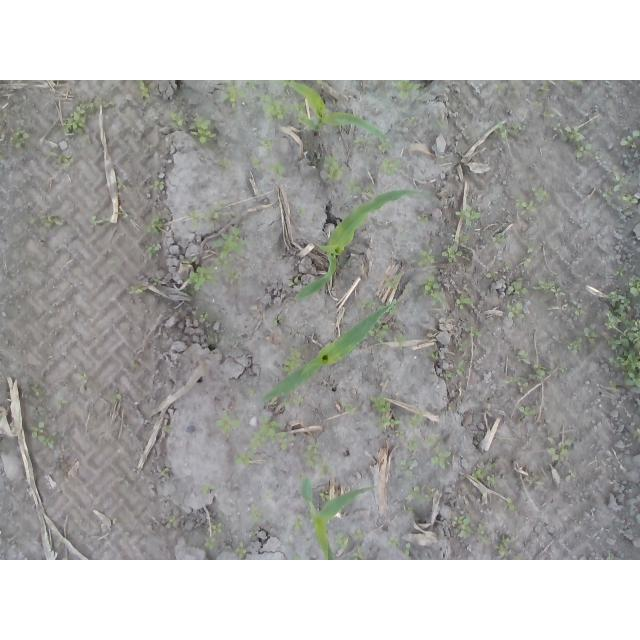Maize: (262, 300, 396, 404), (294, 190, 414, 300), (277, 80, 386, 142), (302, 477, 378, 560)
Weeds: (603, 267, 640, 396), (235, 416, 293, 464), (543, 112, 594, 161), (64, 97, 111, 136), (506, 350, 547, 394), (258, 92, 311, 125), (213, 225, 251, 269), (596, 153, 629, 200), (30, 407, 60, 450), (190, 111, 227, 145), (451, 516, 493, 545), (334, 526, 368, 560), (368, 394, 400, 430), (187, 200, 225, 230), (424, 431, 452, 471), (567, 321, 602, 352), (416, 274, 449, 305), (302, 442, 331, 476), (186, 265, 219, 294), (530, 273, 567, 298), (402, 485, 435, 513), (495, 534, 530, 560), (321, 152, 347, 184), (222, 80, 247, 112), (494, 111, 520, 141), (547, 439, 577, 465), (344, 177, 379, 199), (391, 81, 423, 104), (282, 347, 306, 377), (471, 462, 497, 488), (366, 318, 390, 344), (216, 411, 243, 433), (9, 126, 32, 150), (440, 244, 467, 264), (411, 246, 436, 266), (455, 207, 481, 226), (514, 198, 539, 217), (22, 382, 48, 400), (398, 458, 419, 480), (506, 277, 528, 298), (620, 127, 640, 149), (267, 161, 289, 181), (169, 111, 192, 130), (505, 302, 529, 320), (351, 296, 379, 311), (528, 185, 551, 203), (55, 153, 82, 168), (143, 215, 161, 237), (379, 159, 402, 176), (223, 268, 244, 286), (247, 504, 265, 525), (384, 271, 401, 293), (408, 408, 425, 429), (455, 294, 477, 310), (210, 512, 224, 536), (520, 402, 539, 419), (255, 135, 273, 152), (232, 541, 248, 560), (137, 81, 153, 100), (39, 214, 62, 227), (618, 191, 639, 205), (350, 134, 374, 146), (281, 396, 303, 408), (88, 215, 112, 226), (536, 80, 552, 96), (463, 323, 481, 337), (523, 479, 545, 490), (454, 358, 466, 378), (280, 81, 296, 96), (504, 497, 520, 512), (377, 137, 394, 151), (149, 180, 167, 193), (271, 313, 285, 329), (493, 232, 507, 248), (146, 243, 162, 257), (394, 334, 407, 351), (215, 158, 233, 170), (202, 535, 216, 550), (526, 242, 542, 255), (384, 535, 400, 547), (127, 286, 146, 296), (521, 256, 532, 273), (401, 117, 418, 128), (200, 484, 217, 495), (417, 211, 430, 225), (116, 177, 129, 191), (403, 542, 413, 560), (431, 119, 449, 129), (290, 519, 306, 530), (495, 83, 508, 96), (567, 80, 588, 88), (440, 370, 454, 382), (427, 350, 441, 362), (251, 157, 265, 169), (631, 426, 640, 444), (574, 304, 586, 317), (564, 469, 576, 482), (243, 80, 258, 90), (182, 256, 198, 265), (314, 80, 330, 89), (459, 232, 470, 245), (288, 277, 300, 288), (158, 467, 170, 478), (319, 490, 329, 503), (395, 429, 406, 440), (486, 271, 498, 281), (407, 438, 417, 450), (532, 100, 545, 109), (343, 403, 354, 413), (167, 516, 177, 527), (80, 372, 89, 384), (387, 305, 397, 315), (447, 401, 457, 411), (153, 275, 162, 286), (111, 393, 123, 401), (200, 312, 210, 321), (296, 207, 305, 217), (456, 343, 465, 353), (164, 425, 174, 433), (558, 366, 568, 374), (607, 552, 615, 561), (79, 136, 85, 145), (363, 230, 369, 237)
